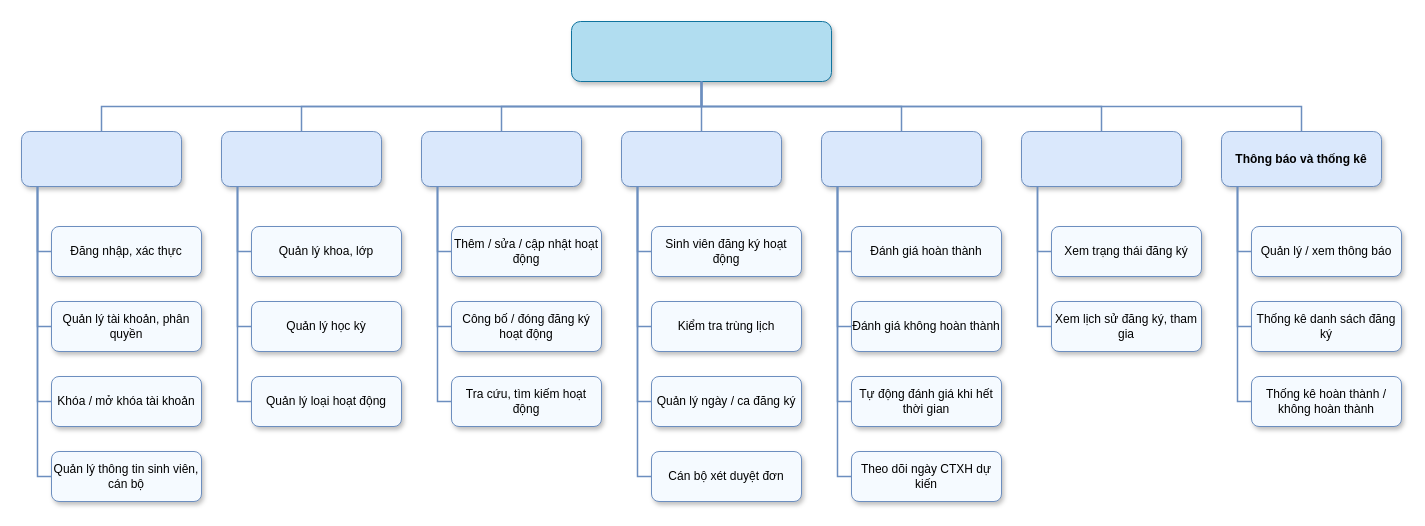
This 1425x526 diagram has some shape labels left out. The centre of each missing label's shape, as x and y in pixels:
"Quản lý danh mục" belongs at point (302, 160).
"Quản lý hoạt động" belongs at point (502, 160).
"Quản lý kết quả tham gia" belongs at point (902, 160).
"Quản lý tài khoản và người dùng" belongs at point (102, 160).
"Quản lý đăng ký" belongs at point (702, 160).
"QUẢN LÝ ĐĂNG KÝ NGÀY CÔNG TÁC XÃ HỘI" belongs at point (702, 52).
"Tra cứu và theo dõi" belongs at point (1102, 160).
